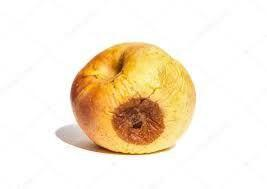Apple: (71, 43, 196, 153)
